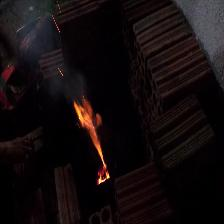fire: (67, 101, 110, 184)
smoke: (52, 75, 82, 96)
